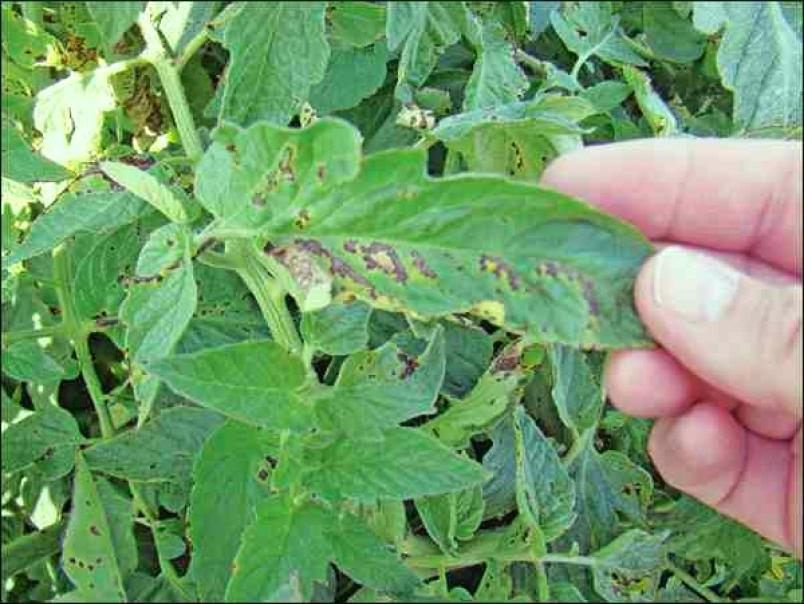Tomato Early blight leaf: (173, 113, 645, 346), (130, 343, 321, 433), (325, 437, 489, 499), (315, 513, 418, 598)
